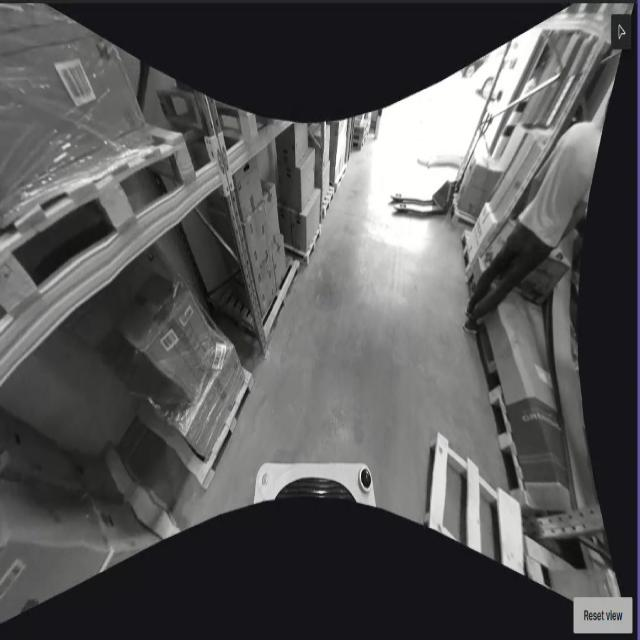Pallets-and-forklifts: (3, 130, 199, 324), (421, 431, 527, 578), (161, 365, 258, 495), (481, 379, 530, 492), (261, 262, 309, 357)
forlift: (389, 105, 488, 228)
